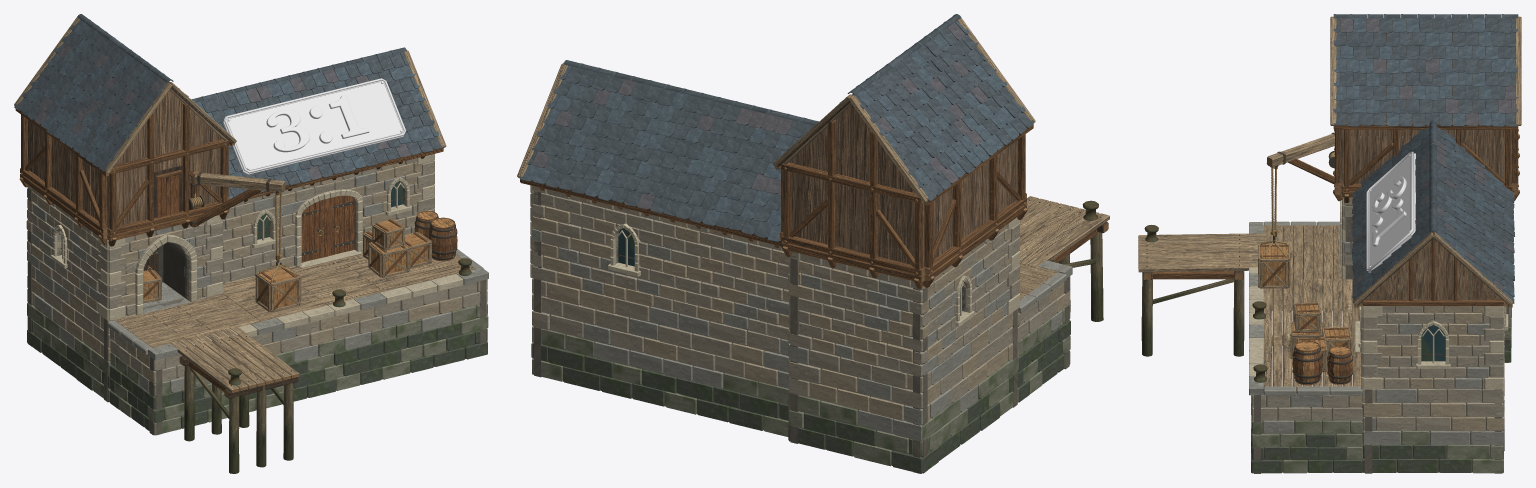
File: common-harbor.fbx
3 views of the same model, side by side, from view 1: azimuth 30°, elevation 25°; view 2: azimuth 150°, elevation 25°; view 3: azimuth 270°, elevation 25° (orthographic). The views are drawn at different scales.
Parts seen in each view (by area): view 1: HarborHouse, PierDeck, TradePlaque, DockCargo, HarborCrane; view 2: HarborHouse, PierDeck; view 3: HarborHouse, PierDeck, TradePlaque, DockCargo, HarborCrane.
Boxes of the visible parts, bbox=[...] form: HarborHouse: bbox=[14, 14, 446, 402]; PierDeck: bbox=[107, 249, 488, 473]; TradePlaque: bbox=[223, 78, 406, 174]; DockCargo: bbox=[143, 211, 457, 303]; HarborCrane: bbox=[189, 171, 301, 312]; HarborHouse: bbox=[517, 14, 1035, 473]; PierDeck: bbox=[1017, 196, 1109, 402]; HarborHouse: bbox=[1330, 14, 1521, 473]; PierDeck: bbox=[1138, 221, 1362, 473]; TradePlaque: bbox=[1366, 151, 1415, 272]; DockCargo: bbox=[1290, 302, 1353, 385]; HarborCrane: bbox=[1258, 132, 1334, 288].
Bounding box in the file's own units: 0.0245 × 0.0212 × 0.0225.
